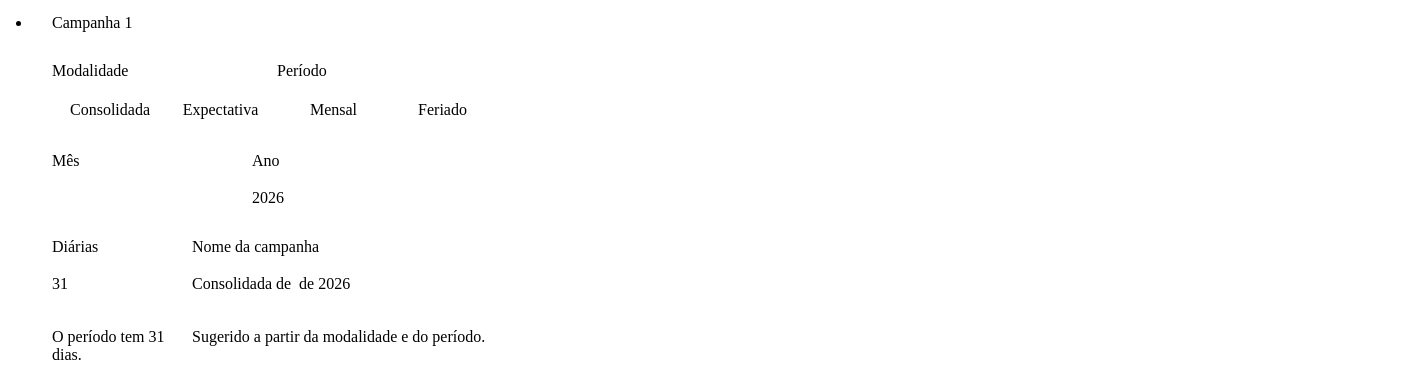
Test: CampanhaCampos › trocar para feriado mostra feriado, primeiro e último dia
Click the radio button labelled "Feriado" at (443, 109), box [418,100,467,118]
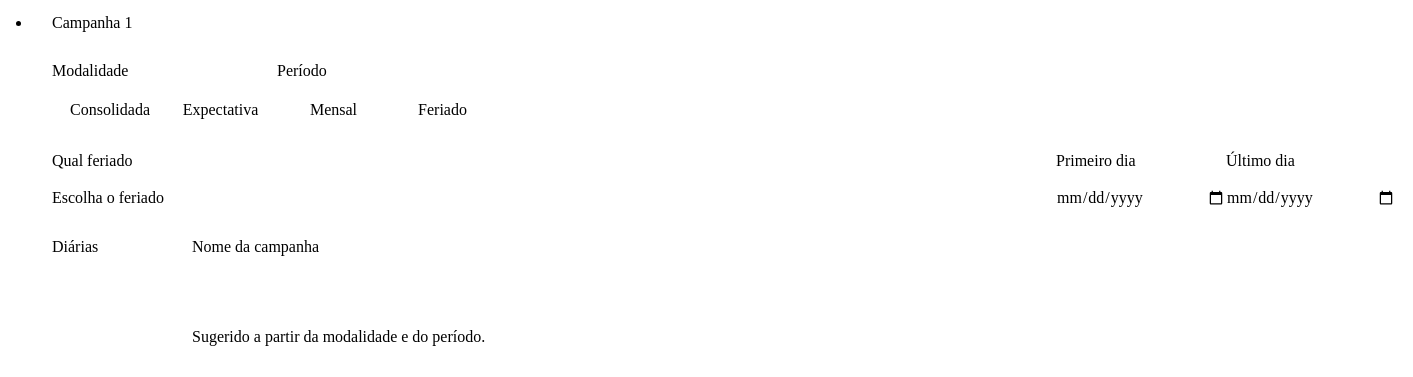
Expected: the label labelled "Mês" is gone
Expected: the dropdown labelled "Qual feriado" shows "Escolha o feriado", [52,176,1056,220]
Expected: the date field labelled "Primeiro dia" is shown, [1056,176,1226,220]
